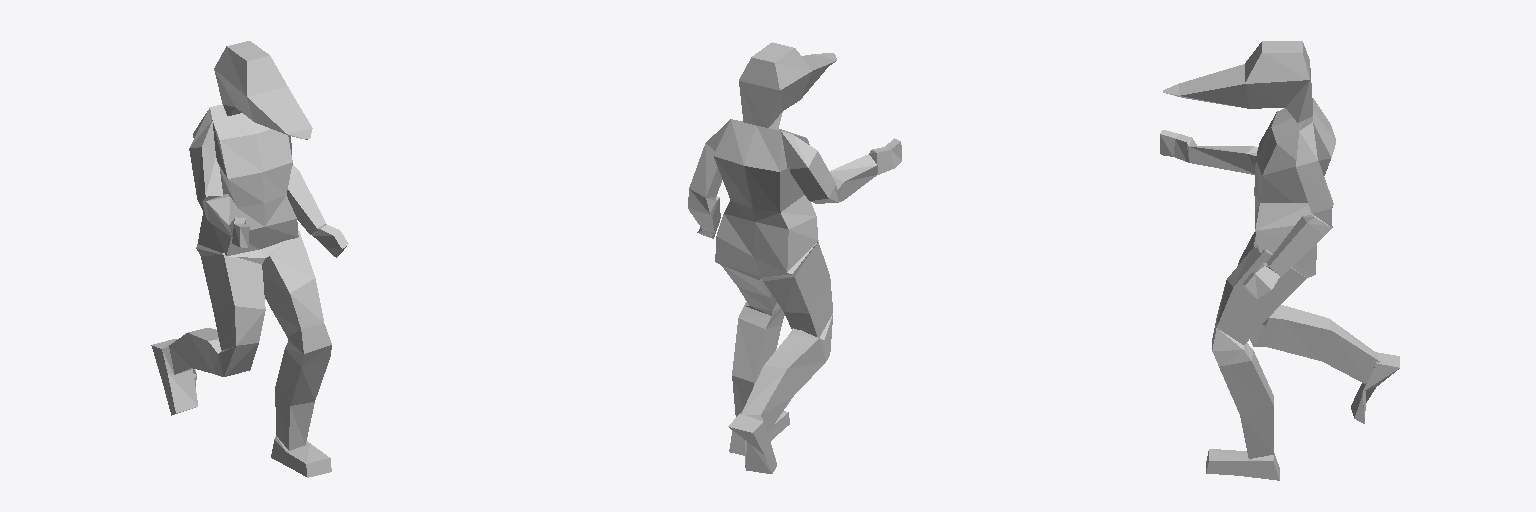
The model's file is DuckPerson_000006.obj.
The picture shows the model from 3 angles: view 1: azimuth 30°, elevation 25°; view 2: azimuth 150°, elevation 25°; view 3: azimuth 270°, elevation 25°; orthographic projection.
Visible parts, largest first — view 1: hand_Cube.015; view 2: hand_Cube.015; view 3: hand_Cube.015.
Part boxes in pixels (x1,y1,x2,y2): hand_Cube.015: (151,41,348,477); hand_Cube.015: (688,42,901,473); hand_Cube.015: (1160,41,1399,480).
Size of the model in its own units: 0.7742 by 2.02 by 1.07.